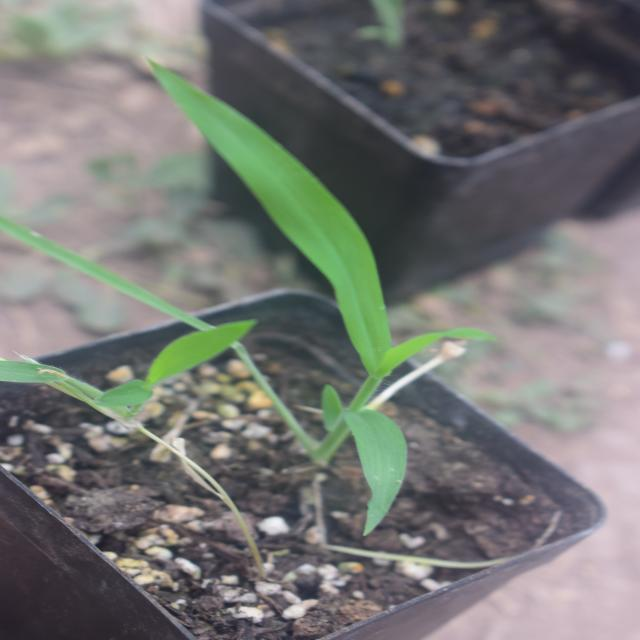crabgrass: (72, 188, 498, 426)
